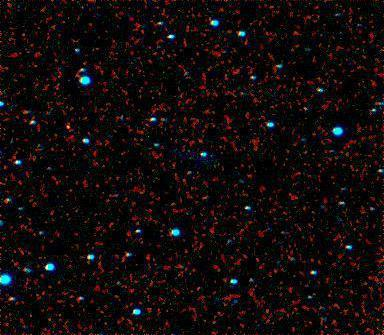star: (54, 111, 84, 141)
